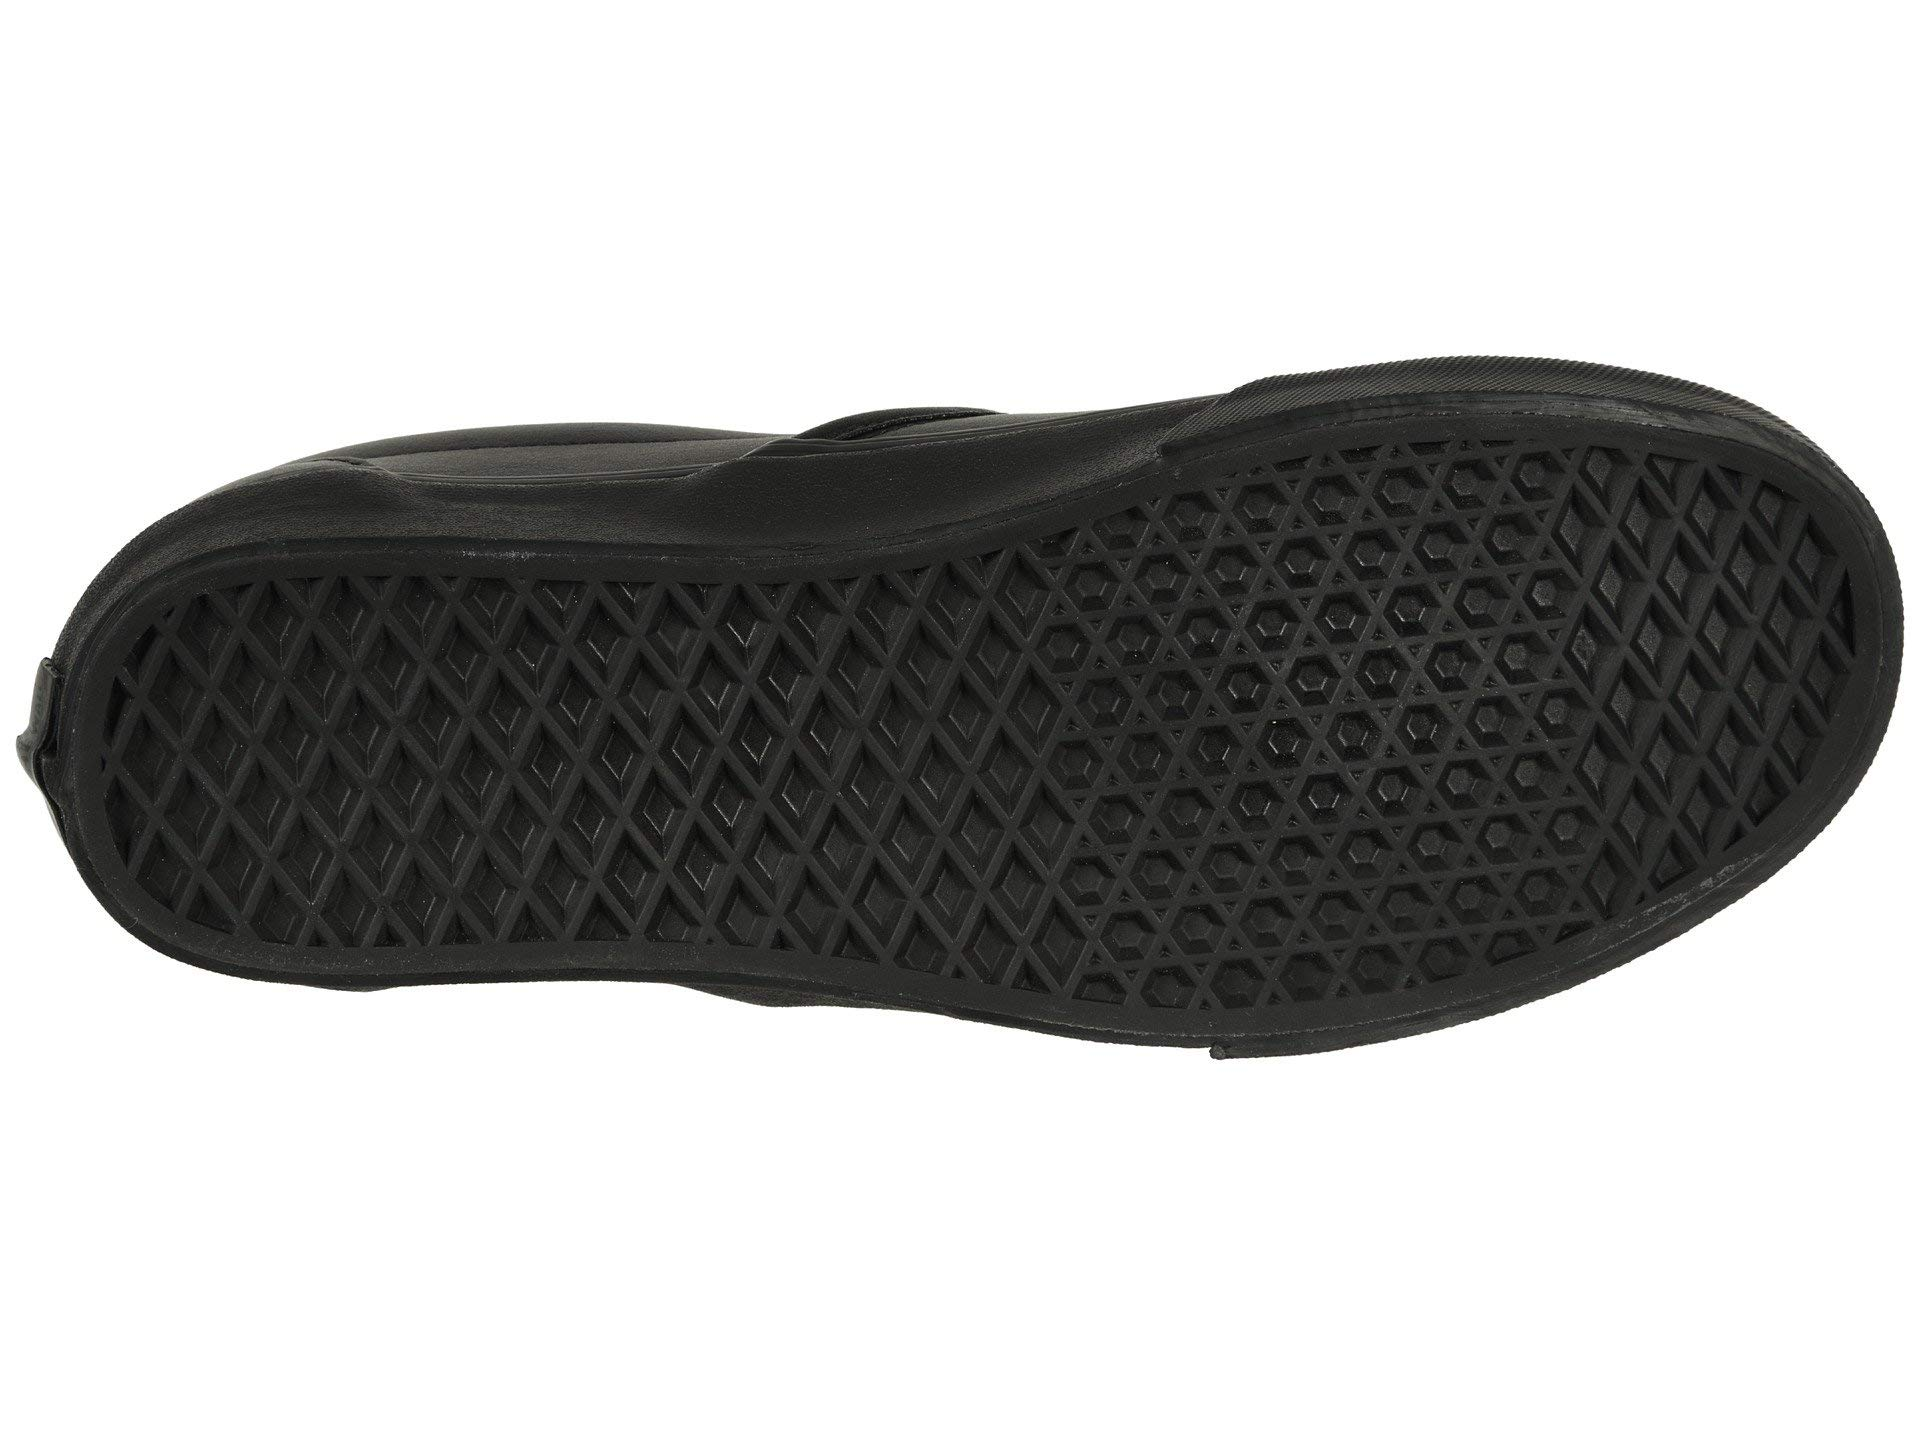polygon: (1123, 511, 1534, 948)
quad: (162, 628, 912, 923), (1690, 479, 1884, 750)
triangle: (1123, 511, 1534, 948), (1690, 479, 1884, 750)
